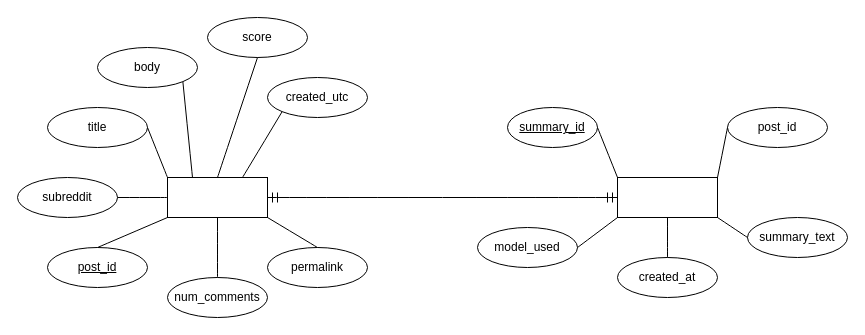
This 865x335 diagram has some shape labels left out. Each missing label, with the centre of its shape:
"Posts" goes at pixel 217 197.
"Summaries" goes at pixel 667 197.
